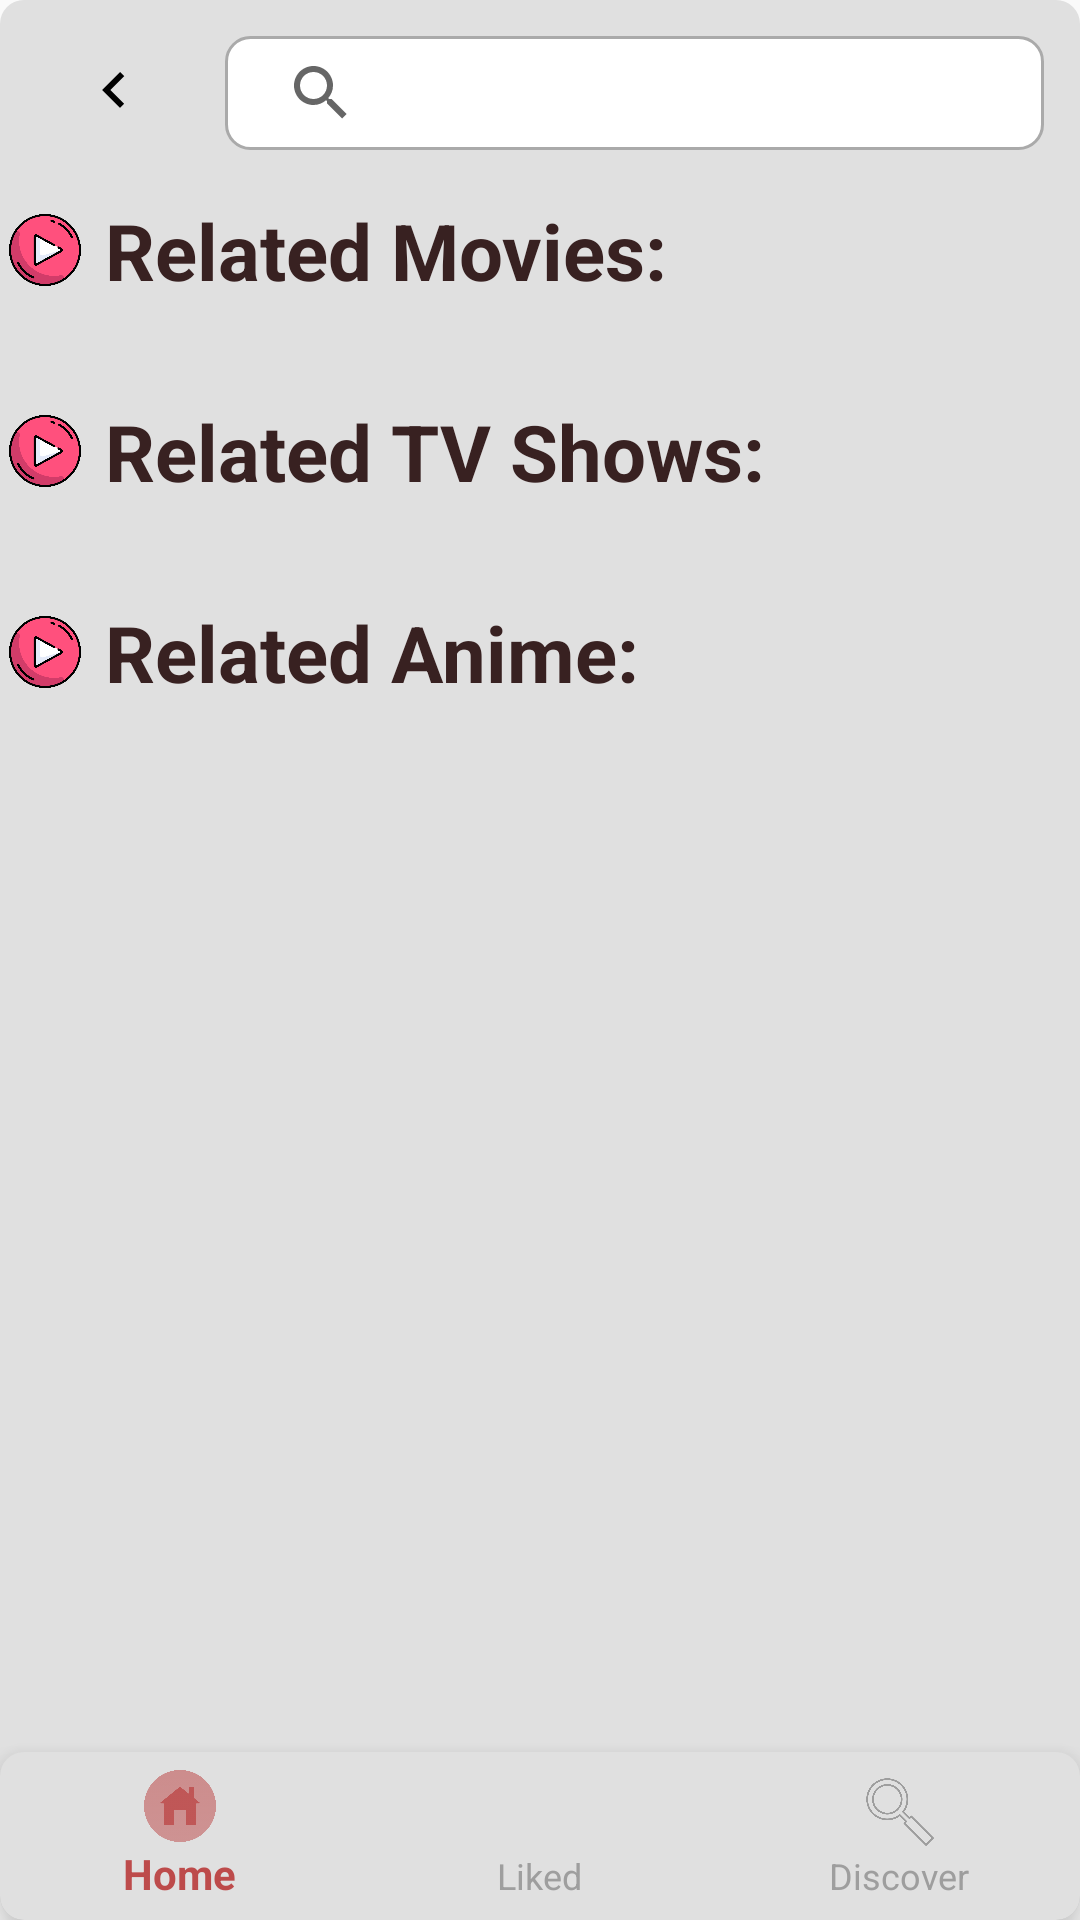

Screen size 1080px×1920px. Icon name, then its box in pixels as (x1, y1, x2, y2):
arrow back: (102, 72, 124, 108)
play: (9, 214, 81, 286), (9, 415, 81, 487), (9, 616, 81, 688)
